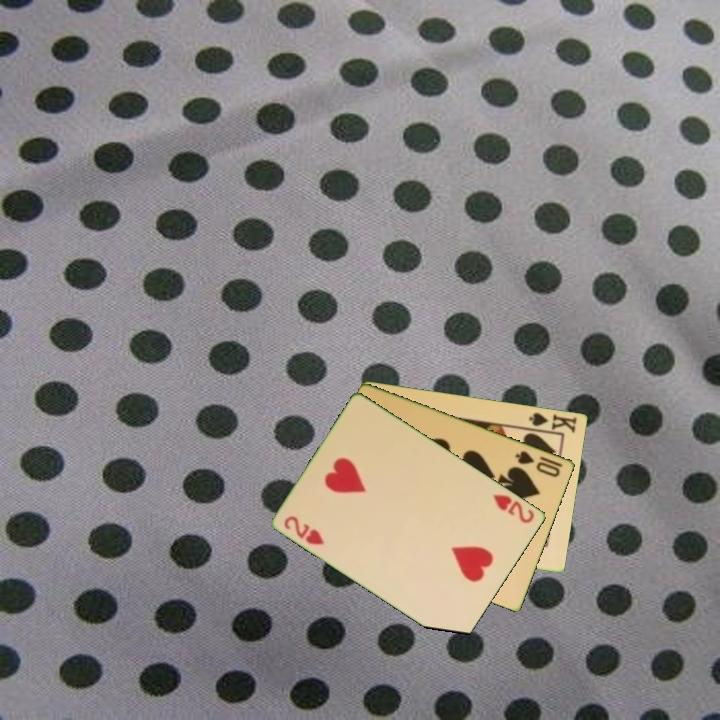10s: (512, 447, 563, 480)
2h: (489, 491, 538, 526), (281, 512, 327, 548)
Ks: (526, 408, 580, 436)
